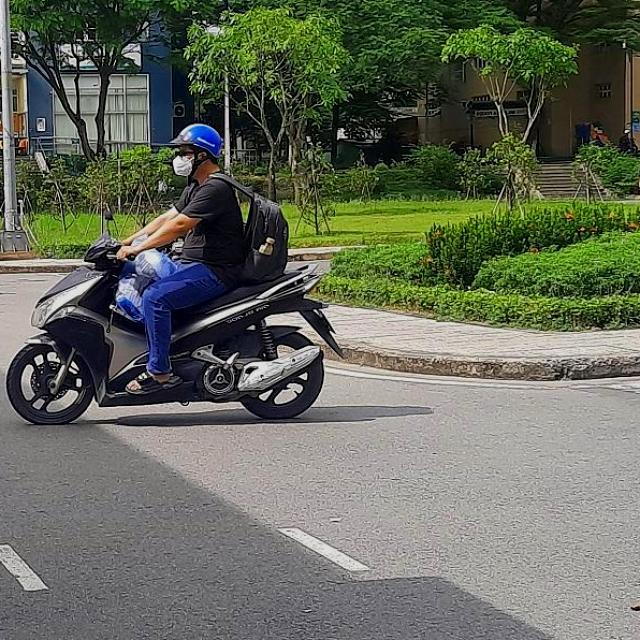Helmet: (165, 121, 224, 190)
